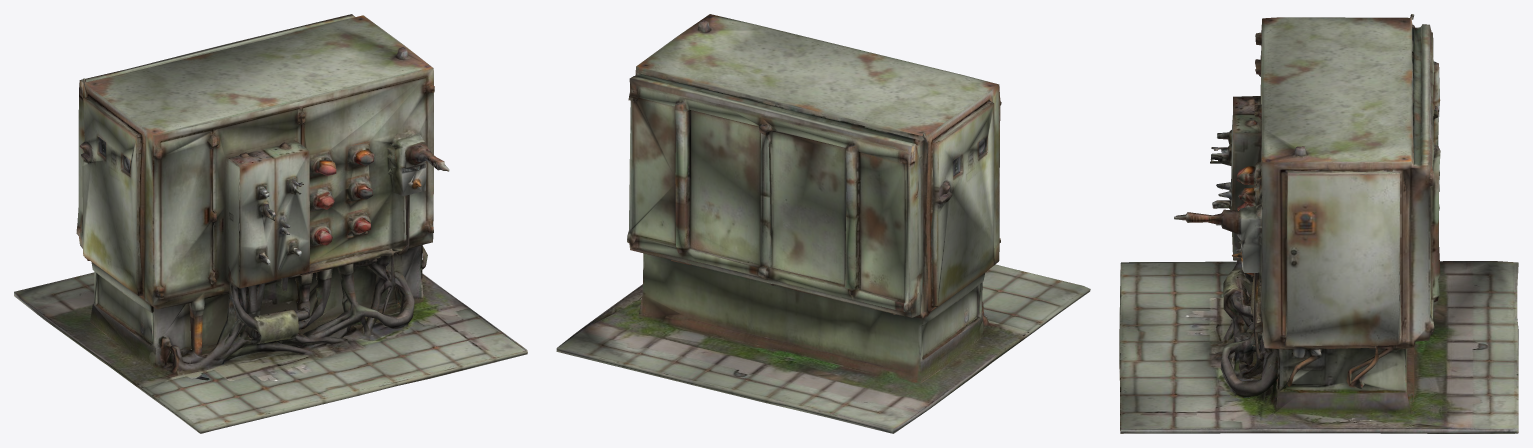
The model's file is generator.glb.
3 views of the same model, side by side, from view 1: azimuth 30°, elevation 25°; view 2: azimuth 150°, elevation 25°; view 3: azimuth 270°, elevation 25° (orthographic). The views are drawn at different scales.
Parts seen in each view (by area): view 1: generator; view 2: generator; view 3: generator.
Part boxes in pixels (x1,y1,x2,y2): generator: [14, 14, 527, 433]; generator: [556, 14, 1090, 433]; generator: [1119, 14, 1518, 433].
Size of the model in its own units: 2.01 by 1.48 by 2.01.
1 material, 1 textured.
